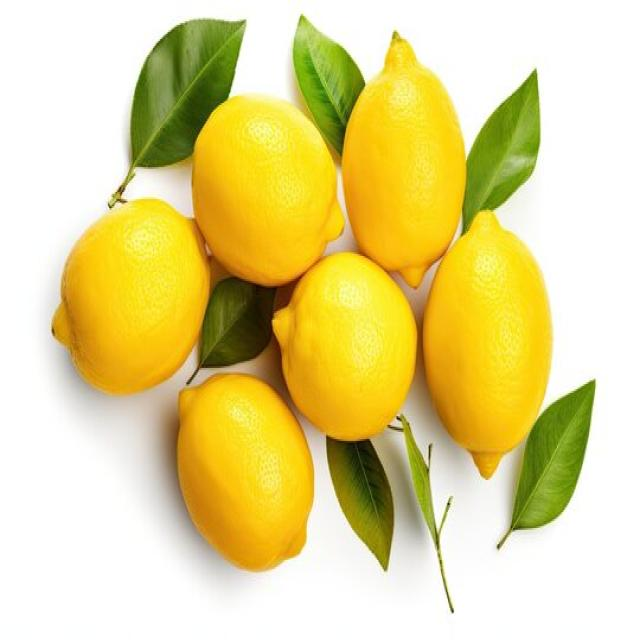Lemon: (422, 208, 552, 478), (340, 28, 466, 286), (51, 196, 210, 394), (191, 91, 344, 286), (270, 249, 417, 441), (175, 372, 314, 570)
